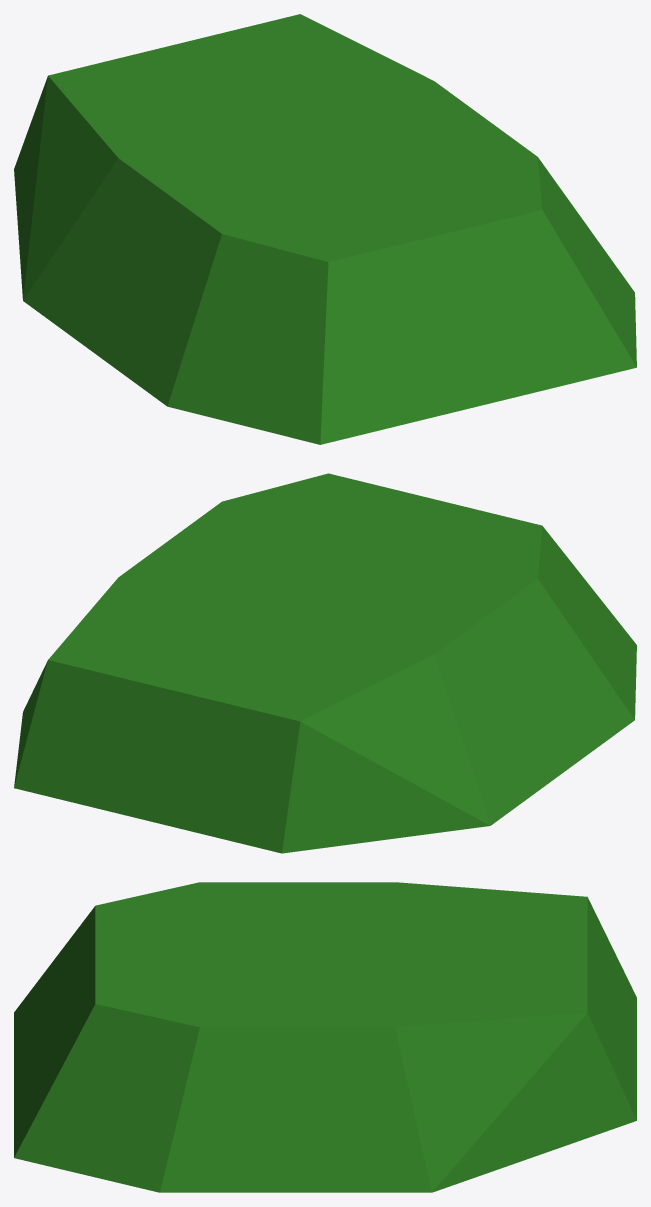
File: Turret1.glb
3 renders of one model, top to bottom at view 1: azimuth 30°, elevation 25°; view 2: azimuth 150°, elevation 25°; view 3: azimuth 270°, elevation 25°, orthographic. The views are drawn at different scales.
Visible parts, largest first — view 1: Turret1; view 2: Turret1; view 3: Turret1.
Part boxes in pixels (x1,y1,x2,y2): Turret1: (14, 14, 636, 444); Turret1: (14, 473, 636, 853); Turret1: (14, 882, 636, 1192).
Size of the model in its own units: 0.1599 by 0.0453 by 0.1959.
